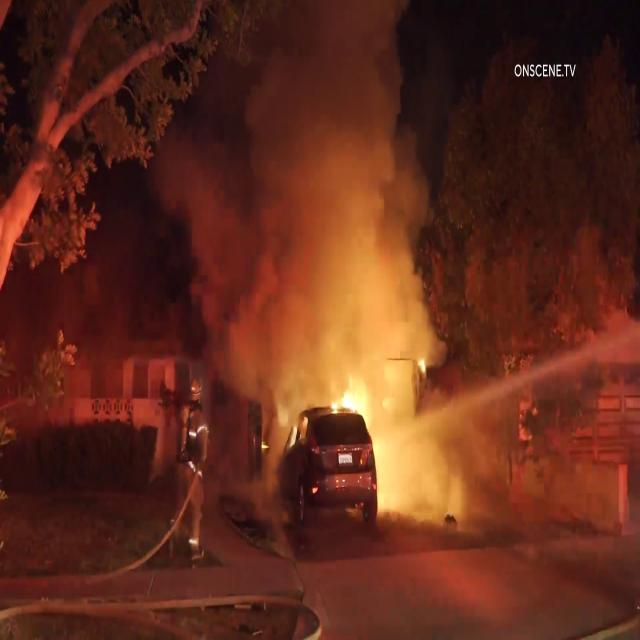fire: (334, 374, 371, 428)
smoke: (185, 110, 402, 346), (265, 6, 424, 118), (392, 446, 466, 526)
